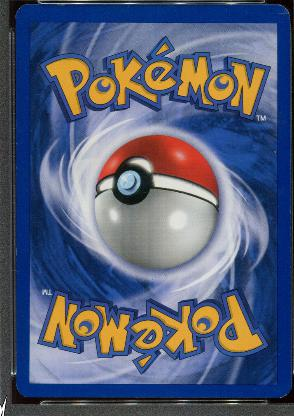Card: (8, 0, 292, 402)
Corner Wear: (276, 3, 291, 17), (14, 5, 21, 21), (277, 391, 288, 399)
Edge Wear: (15, 248, 16, 258)
